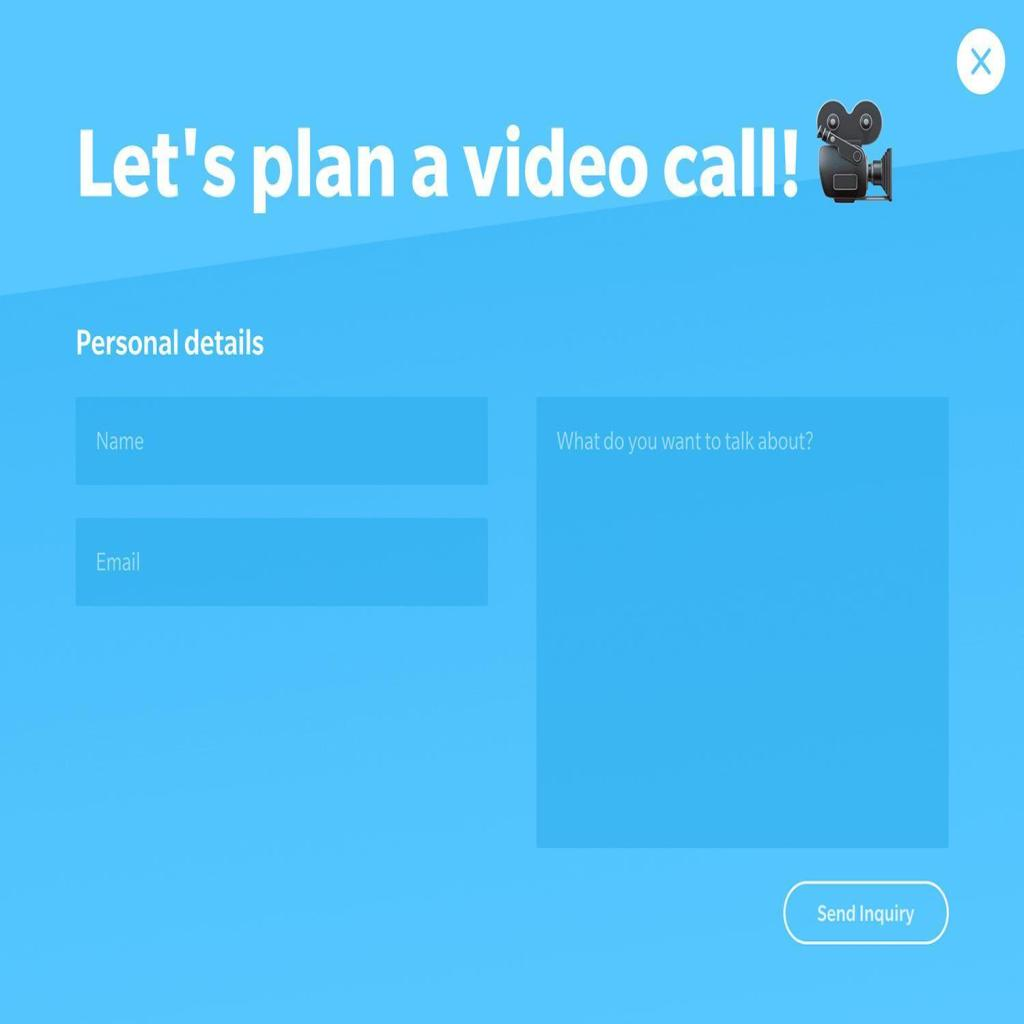button: (784, 883, 951, 945)
icon: (958, 26, 1006, 96)
input: (72, 388, 492, 492), (71, 512, 492, 607)
label: (71, 316, 272, 370)
